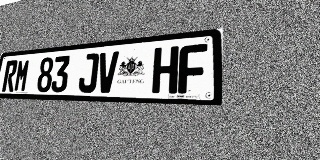3: (51, 55, 70, 92)
8: (36, 57, 55, 92)
F: (178, 44, 207, 94)
H: (152, 46, 179, 94)
J: (78, 53, 99, 93)
M: (13, 59, 31, 92)
R: (2, 60, 18, 92)
V: (96, 51, 119, 93)
